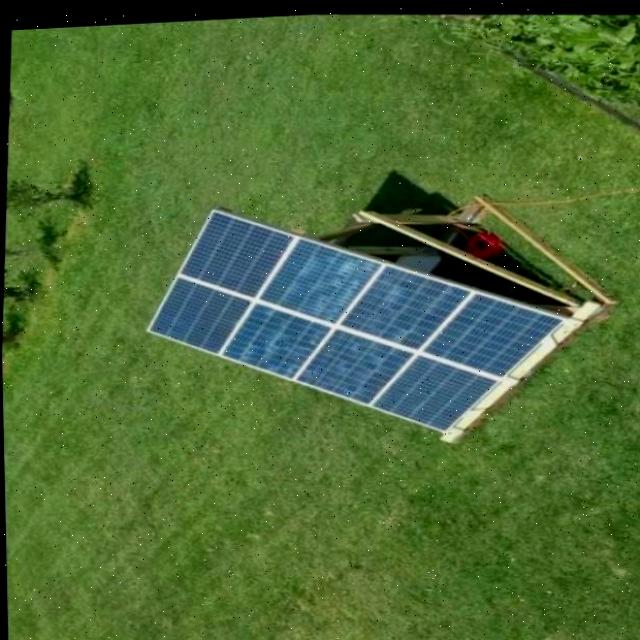Normal Solar Panel: (137, 188, 574, 448)
